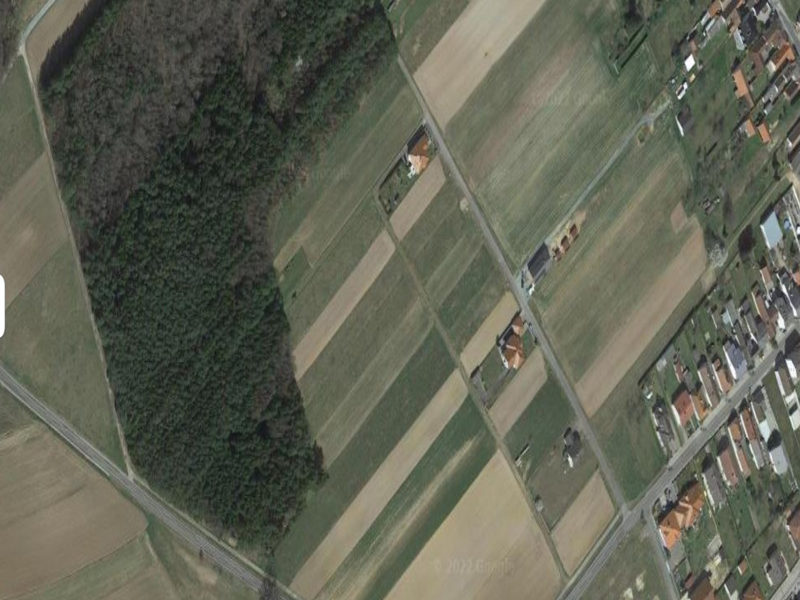field: (390, 156, 447, 241)
